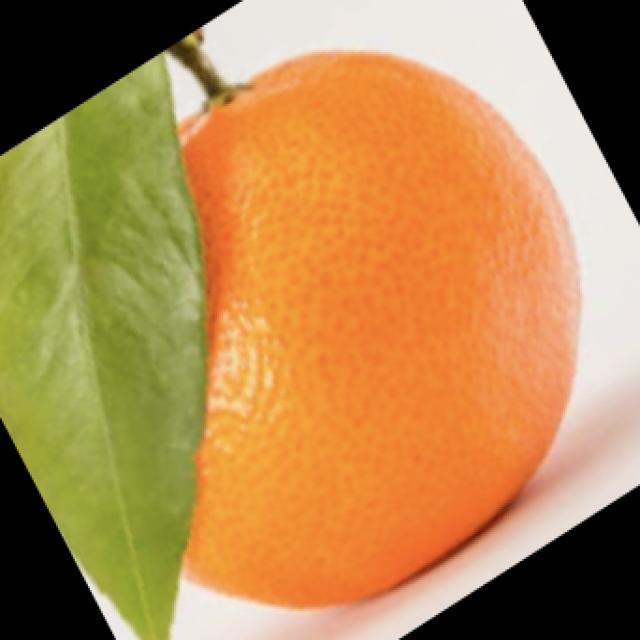matang: (180, 56, 574, 610)
